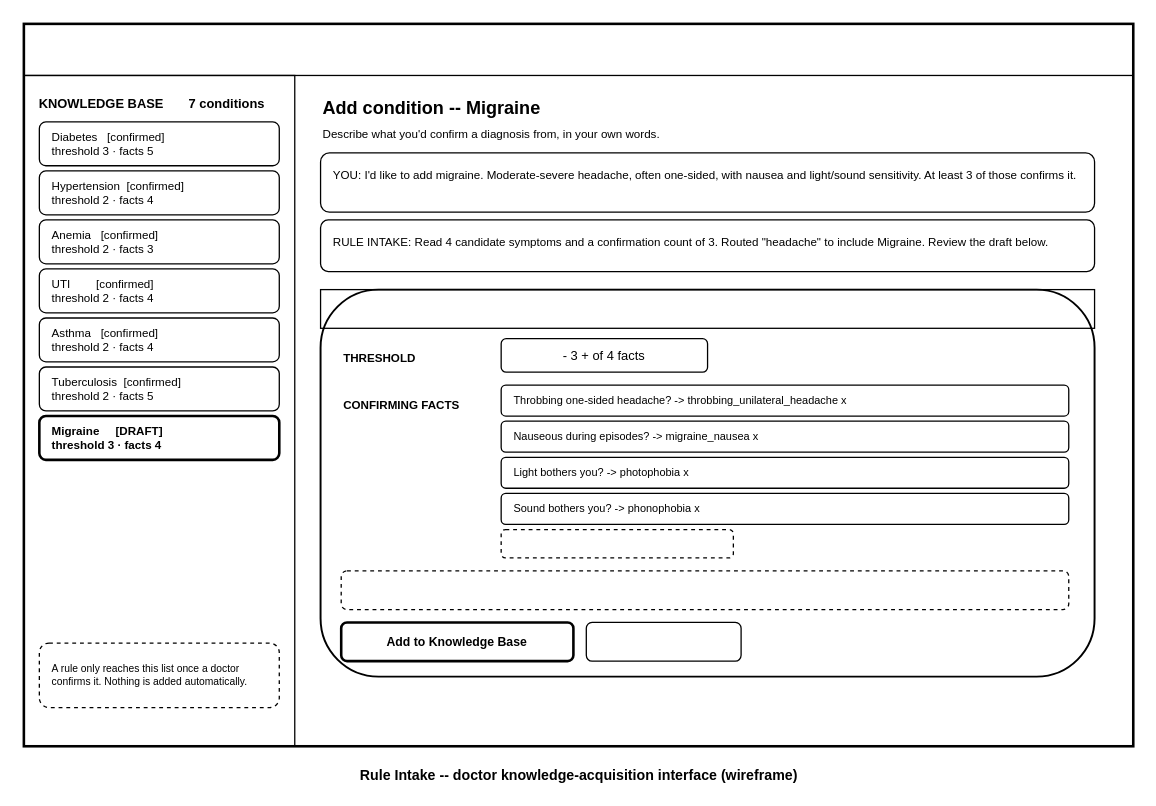
The diagram is 1156 pixels wide and 806 high, and some of its shapes have lost their labels. The shapes that lost their labels are listed below. From the top down, each one's centre as x and y in pixels, then its label:
the point at 578,49: Rule Intake [ 1 draft awaiting confirmation ] Dr. S. Kapoor
the point at 707,308: [DRAFT - UNCONFIRMED] New condition: Migraine
the point at 616,543: + add a confirming fact
the point at 704,590: ROUTING: headache now routes to Hypertension, Anemia, and Migraine.
the point at 663,641: Discard draft
